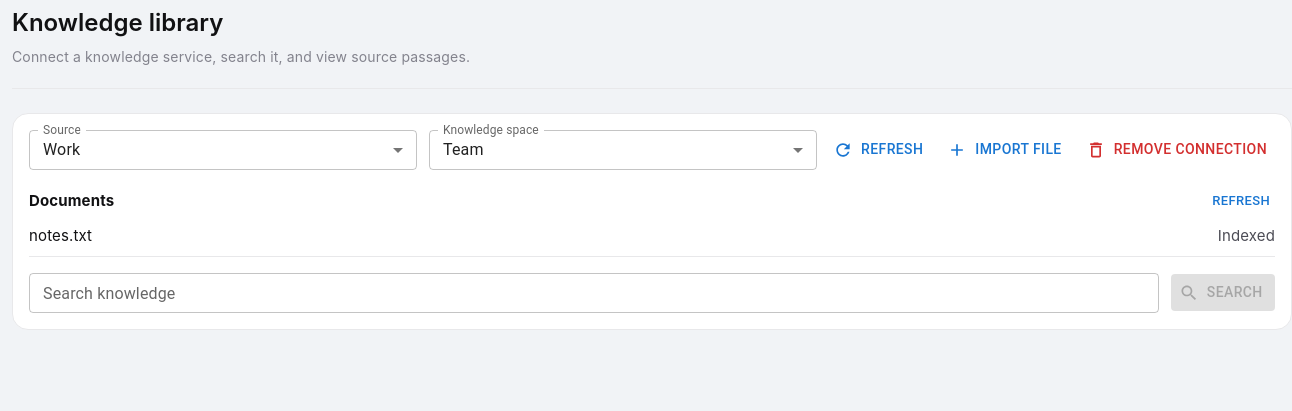
Test: knowledge sources › shows indexing status after a file is imported
Expected: the dropdown "Team" is shown, [443,140,484,159]
Click the button "Import file" at (1006, 150), box [943,131,1070,168]
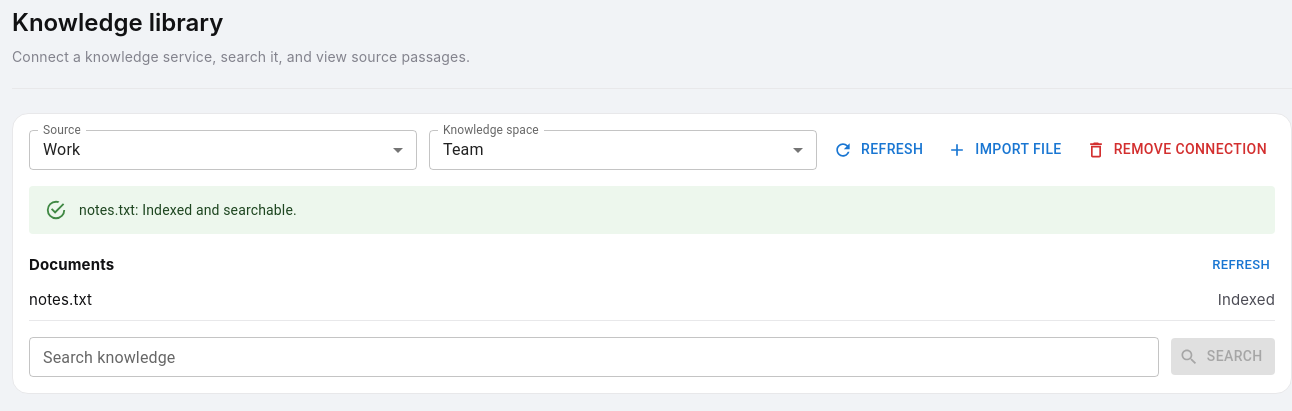
Expected: the text "Indexed" is shown, [1218,288,1275,312]
Result: the text "notes.txt: Indexed and searchable." is shown at [79,202,297,218]
